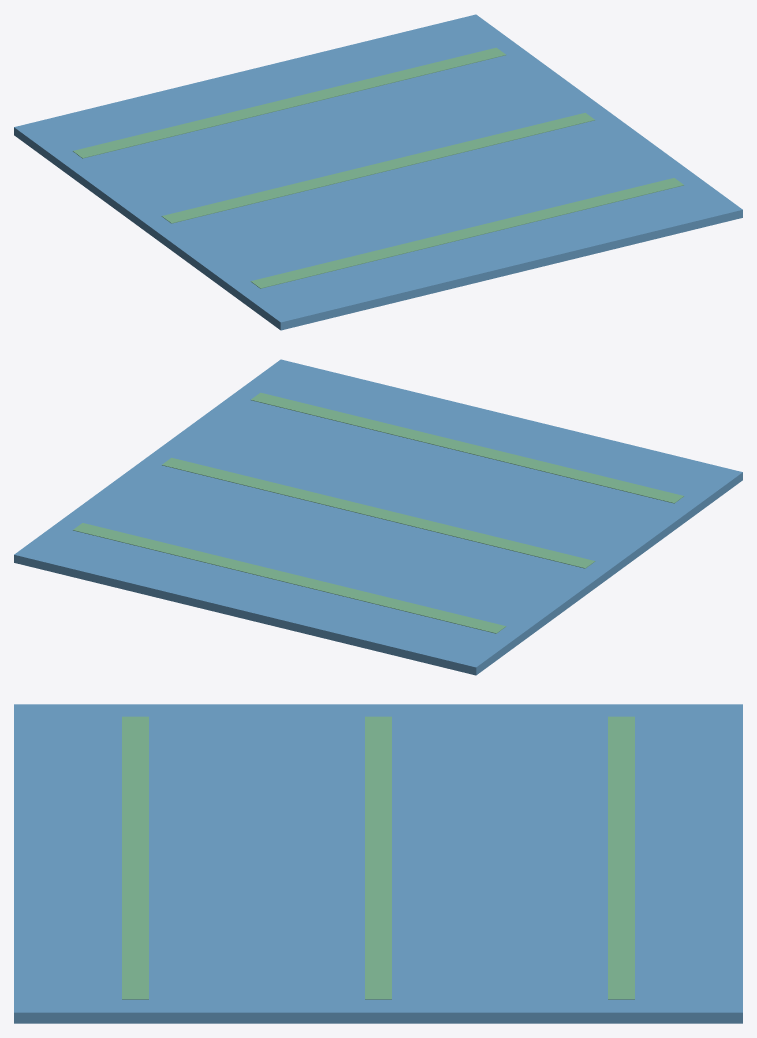
The model's file is tennis-club-and-courts-court-surface-tile-e72e9e6a__33604.glb.
3 renders of one model, top to bottom at view 1: azimuth 30°, elevation 25°; view 2: azimuth 150°, elevation 25°; view 3: azimuth 270°, elevation 25°, orthographic. The views are drawn at different scales.
Parts seen in each view (by area): view 1: court-surface-tile; view 2: court-surface-tile; view 3: court-surface-tile.
Boxes of the visible parts, x1,y1,x2,y2 form: court-surface-tile: (14, 14, 742, 330); court-surface-tile: (14, 359, 742, 675); court-surface-tile: (14, 704, 742, 1023).
Bounding box in the file's own units: 6 × 0.1062 × 6.
